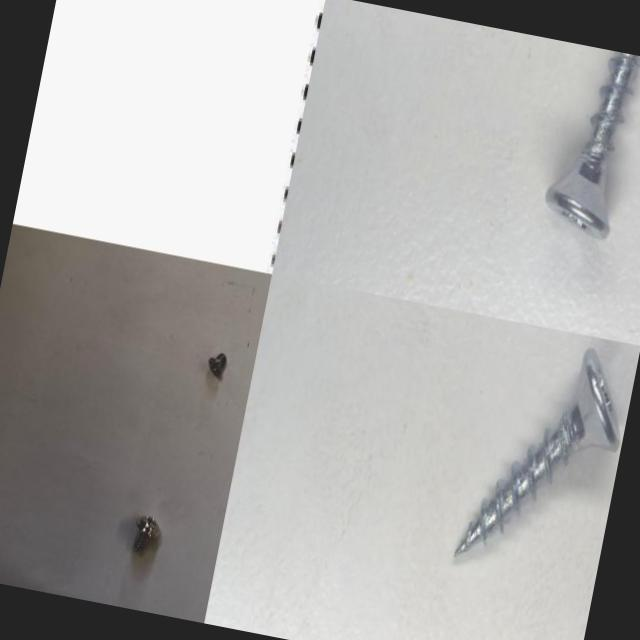Screw: (455, 348, 621, 556), (546, 52, 640, 239), (128, 510, 166, 560), (202, 347, 232, 382)
